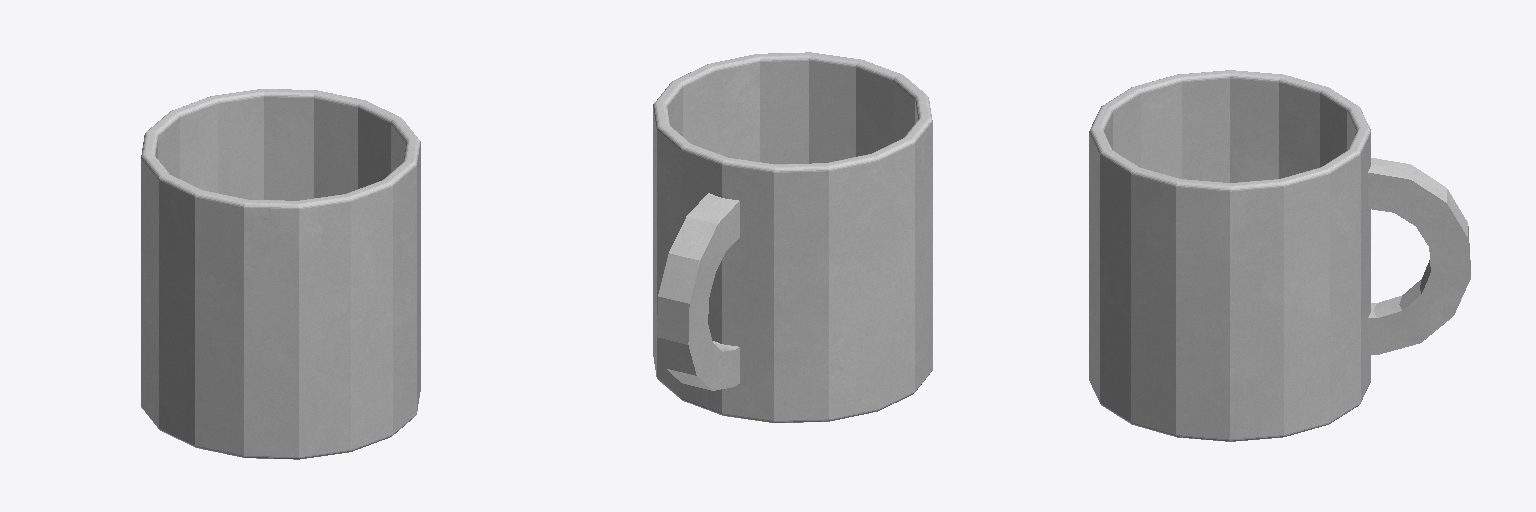
3 renders of one model, left to right at view 1: azimuth 30°, elevation 25°; view 2: azimuth 150°, elevation 25°; view 3: azimuth 270°, elevation 25°, orthographic.
Parts seen in each view (by area): view 1: cup; view 2: cup; view 3: cup.
Boxes of the visible parts, x1,y1,x2,y2 form: cup: [141, 89, 420, 459]; cup: [653, 52, 932, 422]; cup: [1089, 70, 1470, 441].
Size of the model in its own units: 0.1 by 0.1 by 0.1352.
Materials: 1 (1 with a texture image).